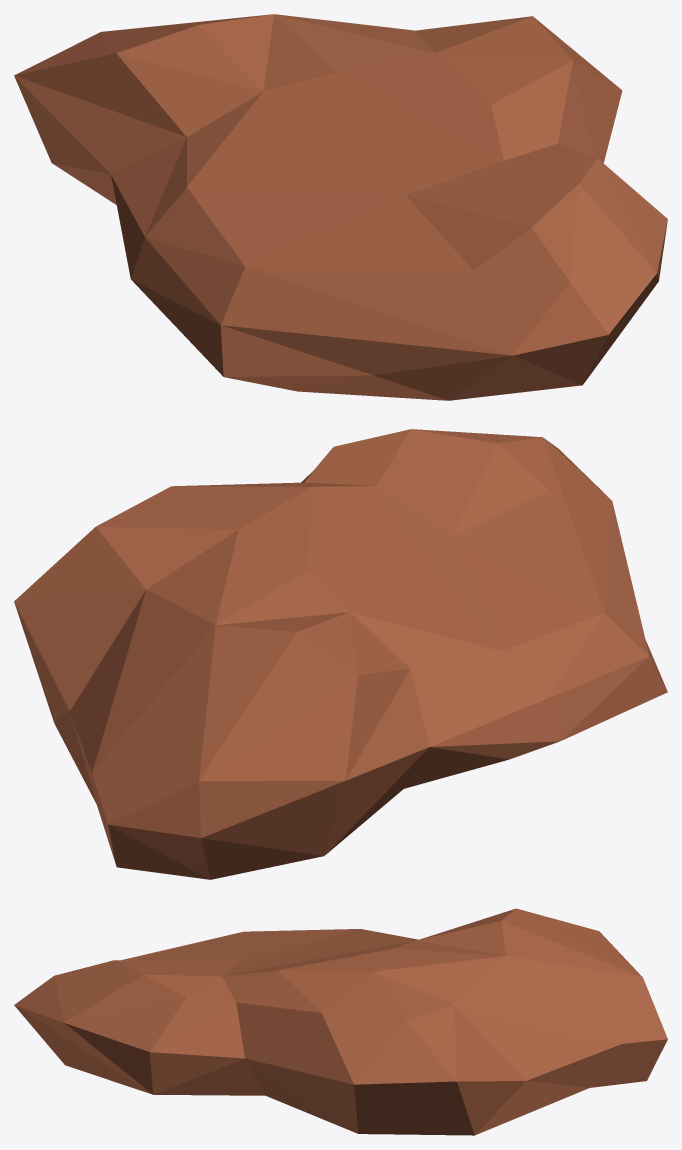
The model's file is medium_rock5.glb.
3 views of the same model, one above another, from view 1: azimuth 30°, elevation 25°; view 2: azimuth 150°, elevation 25°; view 3: azimuth 270°, elevation 25° (orthographic). The views are drawn at different scales.
Visible parts, largest first — view 1: medium_rock5; view 2: medium_rock5; view 3: medium_rock5.
Boxes of the visible parts, <box> form: medium_rock5: <box>14,14,667,400</box>; medium_rock5: <box>14,429,667,879</box>; medium_rock5: <box>14,908,667,1135</box>.
Bounding box in the file's own units: 3.33 × 1.34 × 5.25.
